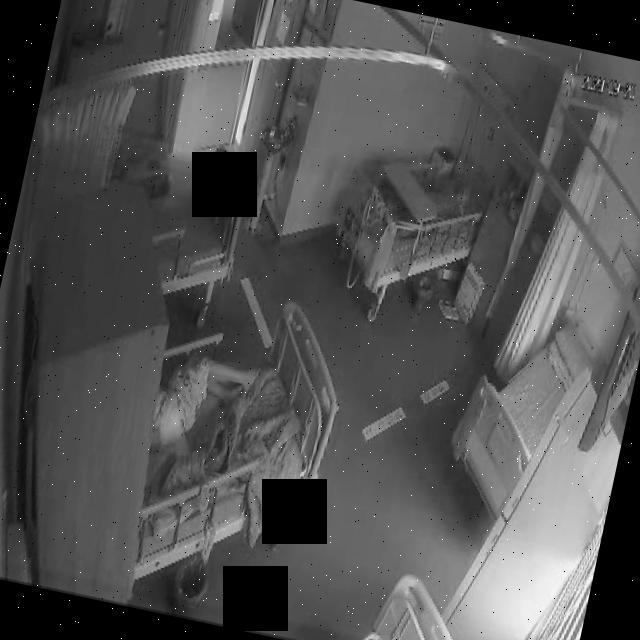bed: (125, 279, 357, 576), (308, 115, 497, 332), (436, 311, 594, 534), (128, 131, 258, 308)
lie: (143, 343, 261, 465)
patient: (144, 342, 262, 466)
